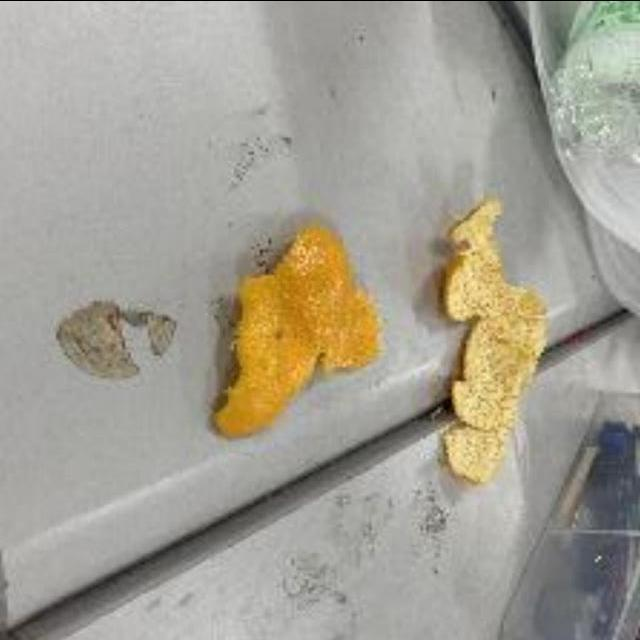orange peel: (212, 219, 384, 443), (440, 195, 550, 483)
